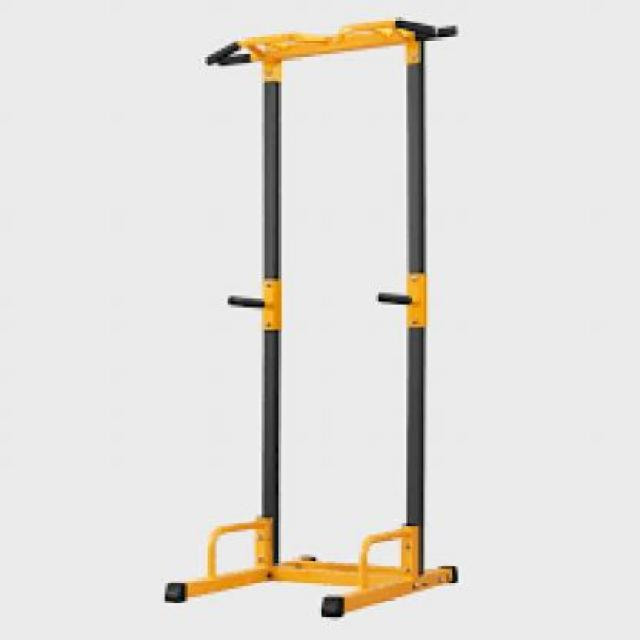chinning dipping: (163, 17, 462, 617)
